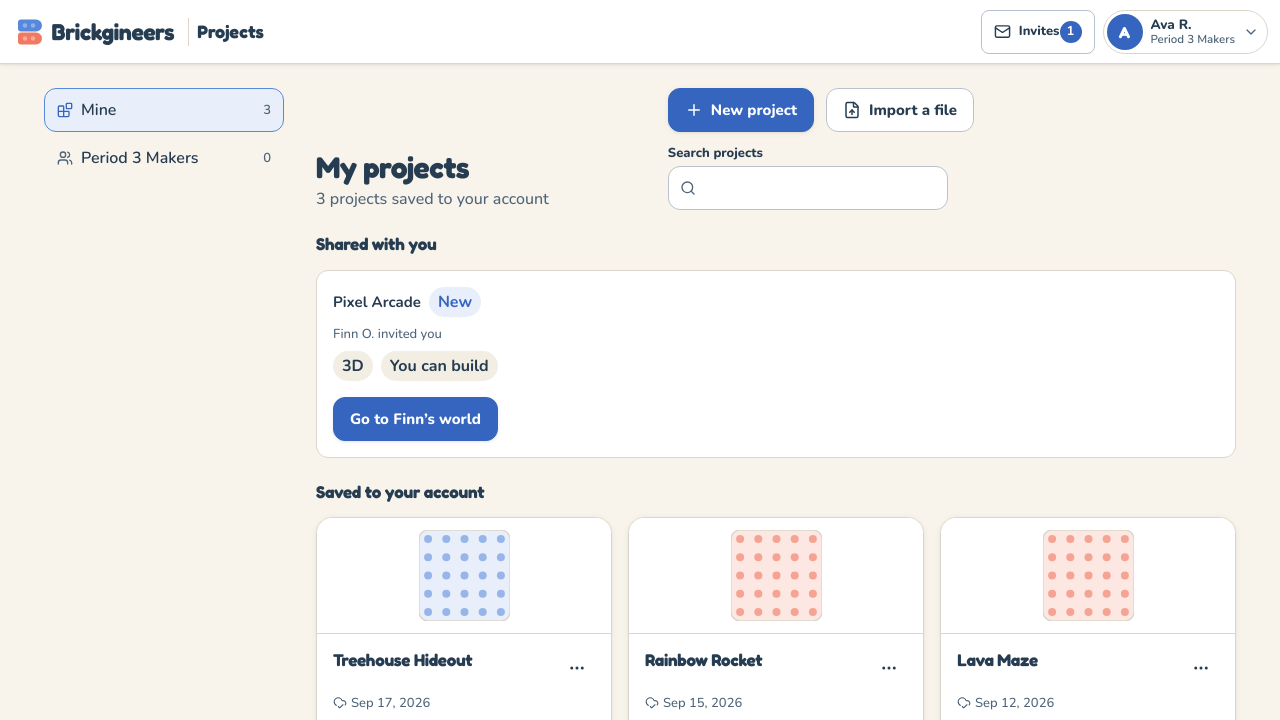
student › explains a closed class instead of showing class cards
Click the button "Period 3 Makers 0". click: (164, 158)
box: [44, 136, 284, 180]
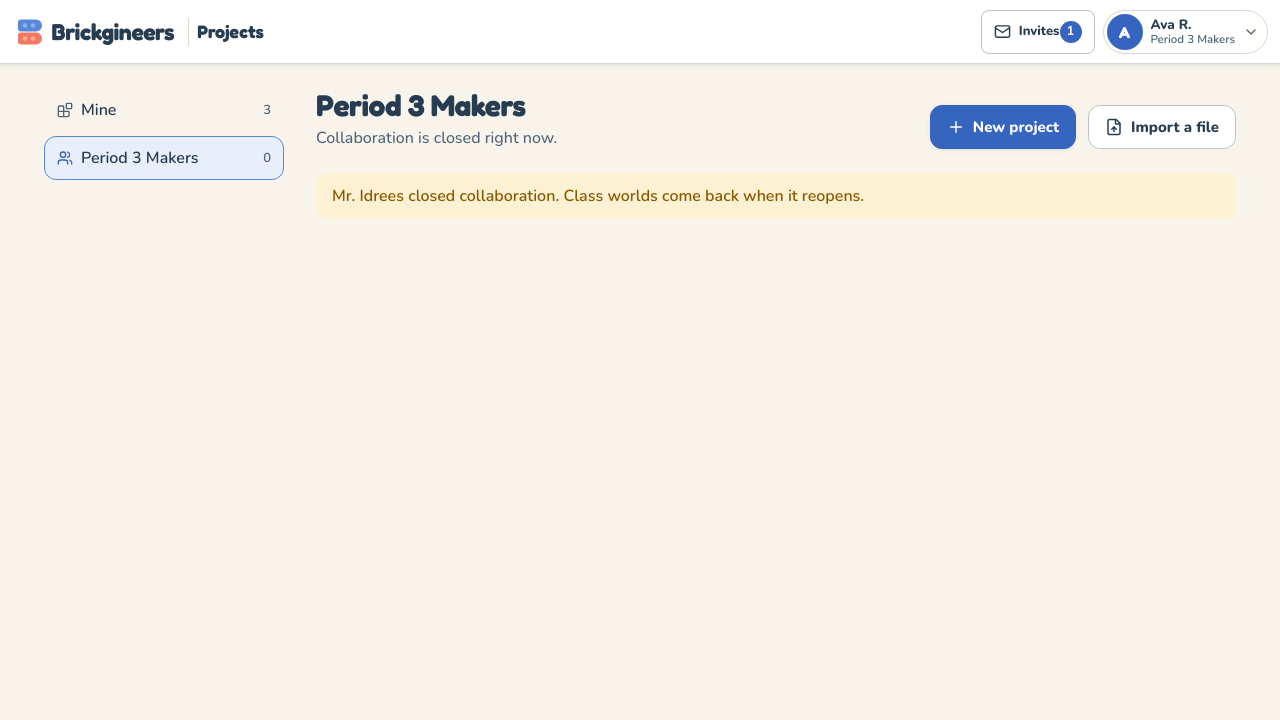
Check: the text "Mr. Idrees closed collaboration. Class worlds come back when it reopens." is shown, box [316, 172, 1236, 218]
Check: the label labelled "Search projects" is gone
